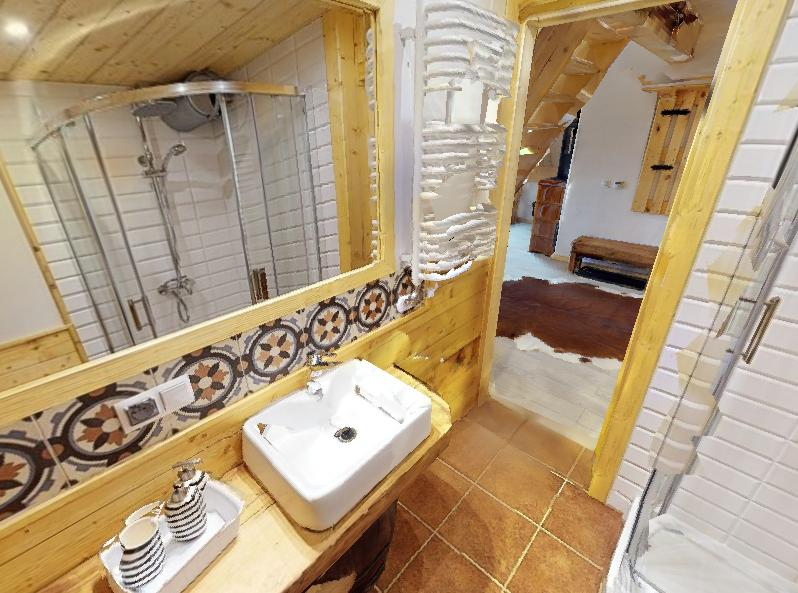door-frame: (486, 0, 759, 512)
sink: (235, 334, 446, 548)
